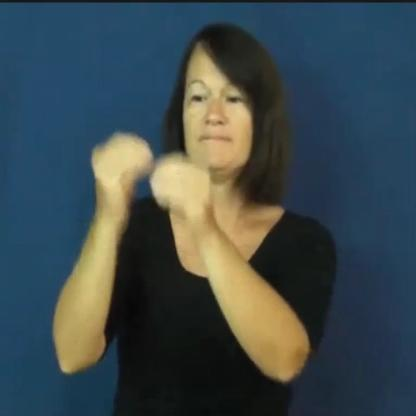Fix: (85, 124, 220, 262)
